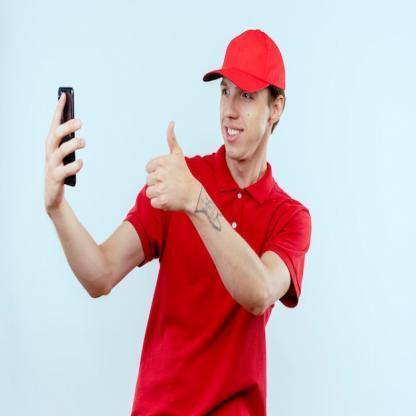thumb_up: (145, 121, 190, 214)
